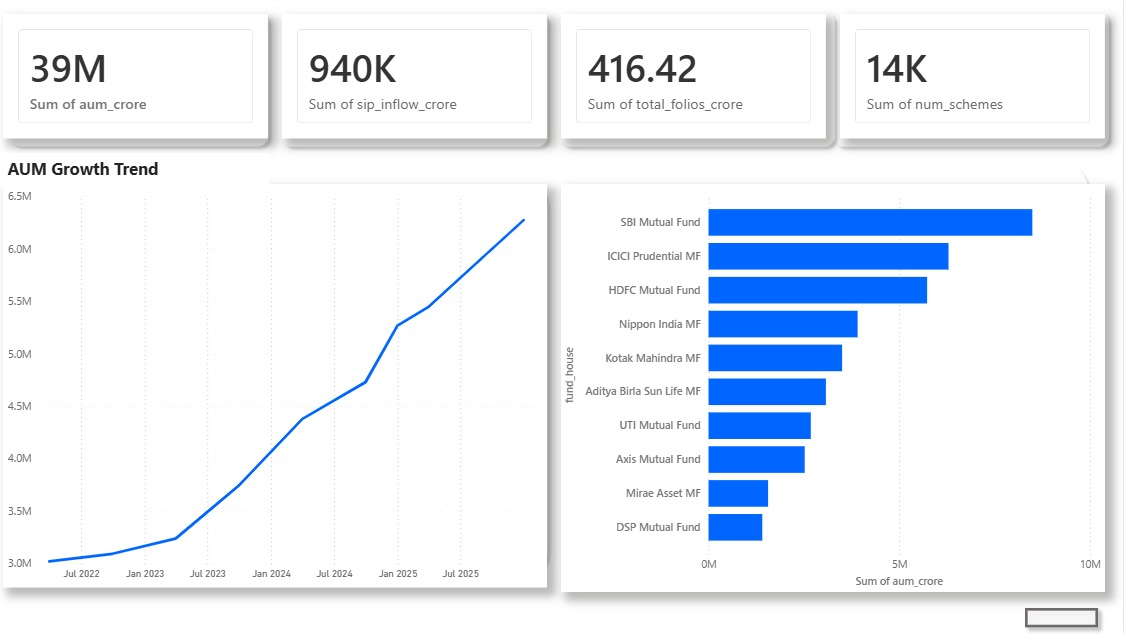

Layout of this report page (visuals, bound fields, positions):
{"tool":"powerbi","page":{"name":"Industry Overview","canvas":[1280,720],"ordinal":0},"visuals":[{"type":"shape","box":[632.2,176.6,616.5,489.4],"z":0},{"type":"shape","box":[20.2,194.6,619.9,471.4],"z":1000},{"type":"shape","box":[946.1,10.1,325.1,166.5],"z":2000},{"type":"shape","box":[640.1,10.1,322.9,166.5],"z":3000},{"type":"shape","box":[326.2,10.1,313.9,166.5],"z":4000},{"type":"shape","box":[20.6,10.3,305.9,165.8],"z":5000},{"type":"cardVisual","fields":{"Data":["Sum(03_aum_by_fund_house.aum_crore)"]},"box":[20,20,298,140],"z":6000},{"type":"cardVisual","fields":{"Data":["Sum(04_monthly_sip_inflows.sip_inflow_crore)"]},"box":[334,20,298,140],"z":7000},{"type":"cardVisual","fields":{"Data":["Sum(06_industry_folio_count.total_folios_crore)"]},"box":[648,20,298,140],"z":8000},{"type":"cardVisual","fields":{"Data":["Sum(03_aum_by_fund_house.num_schemes)"]},"box":[962,20,298,140],"z":9000},{"type":"lineChart","fields":{"Y":["Sum(03_aum_by_fund_house.aum_crore)"],"Category":["03_aum_by_fund_house.date"]},"box":[20.6,212,611.7,453.7],"z":10000},{"type":"clusteredBarChart","fields":{"Category":["03_aum_by_fund_house.fund_house"],"Y":["Sum(03_aum_by_fund_house.aum_crore)"]},"box":[648,211.5,612,459],"z":11000},{"type":"actionButton","box":[1160.5,679.8,100.2,39.8],"z":12000},{"type":"textbox","box":[20.6,176.1,299.4,37.3],"z":13000}]}

Visuals, with their boxes in screenshot pixels (x1, y1, x2, y2), scaled from the page's 1280x720 canvas onto the 1124x635 screenshot:
shape: Rect(555, 156, 1097, 587)
shape: Rect(18, 172, 562, 587)
shape: Rect(831, 9, 1116, 156)
shape: Rect(562, 9, 846, 156)
shape: Rect(286, 9, 562, 156)
shape: Rect(18, 9, 287, 155)
cardVisual - Sum(03_aum_by_fund_house.aum_crore): Rect(18, 18, 279, 141)
cardVisual - Sum(04_monthly_sip_inflows.sip_inflow_crore): Rect(293, 18, 555, 141)
cardVisual - Sum(06_industry_folio_count.total_folios_crore): Rect(569, 18, 831, 141)
cardVisual - Sum(03_aum_by_fund_house.num_schemes): Rect(845, 18, 1106, 141)
lineChart - Sum(03_aum_by_fund_house.aum_crore) x 03_aum_by_fund_house.date: Rect(18, 187, 555, 587)
clusteredBarChart - 03_aum_by_fund_house.fund_house x Sum(03_aum_by_fund_house.aum_crore): Rect(569, 187, 1106, 591)
actionButton: Rect(1019, 600, 1107, 634)
textbox: Rect(18, 155, 281, 188)
